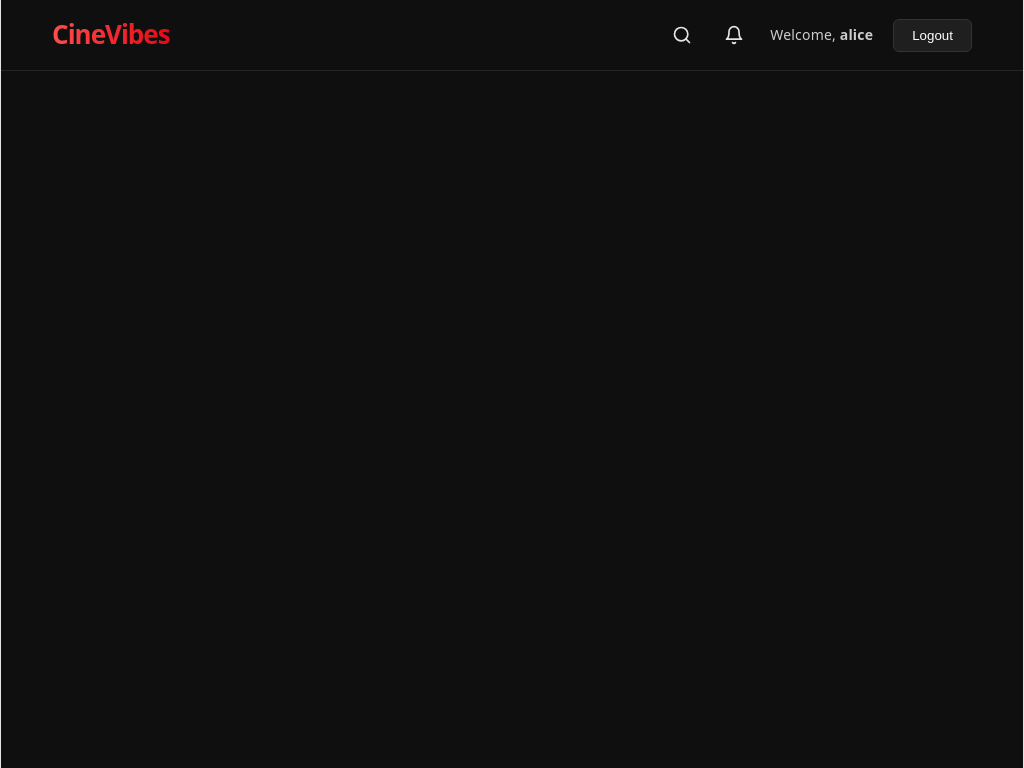
Test: Header › shows an empty state when there are no notifications
The image size is (1024, 768).
Click the button named "Notifications": {"x": 734, "y": 35} [718, 19, 750, 51]
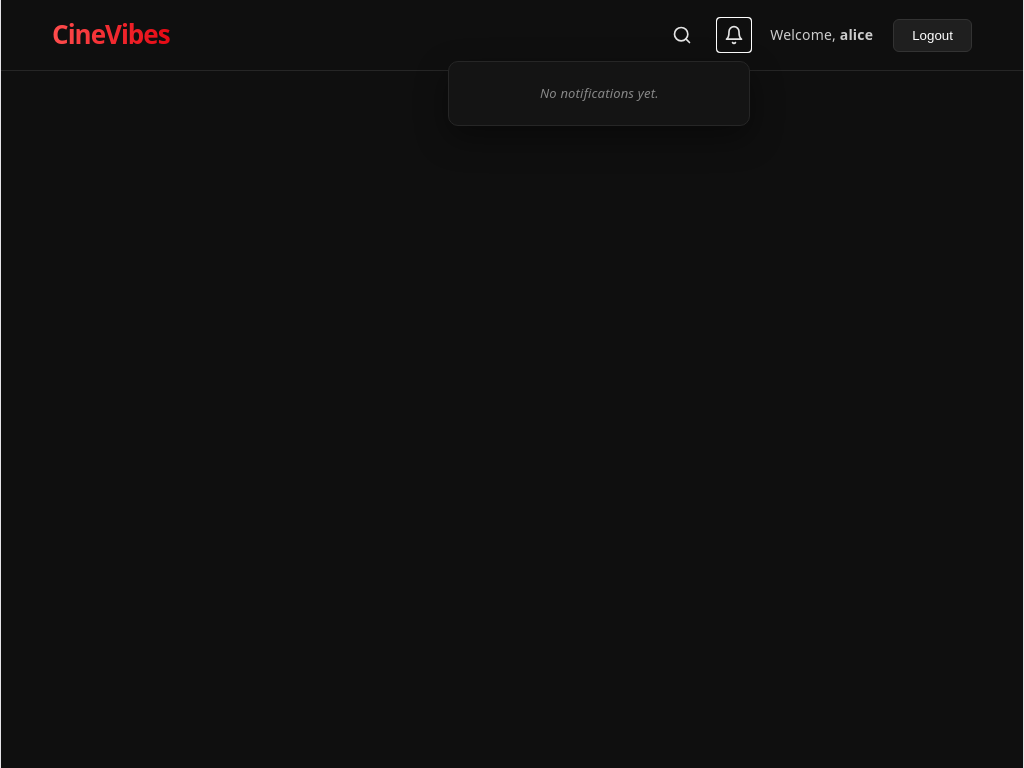
Result: the text "No notifications yet." is shown at [540, 84, 659, 102]
